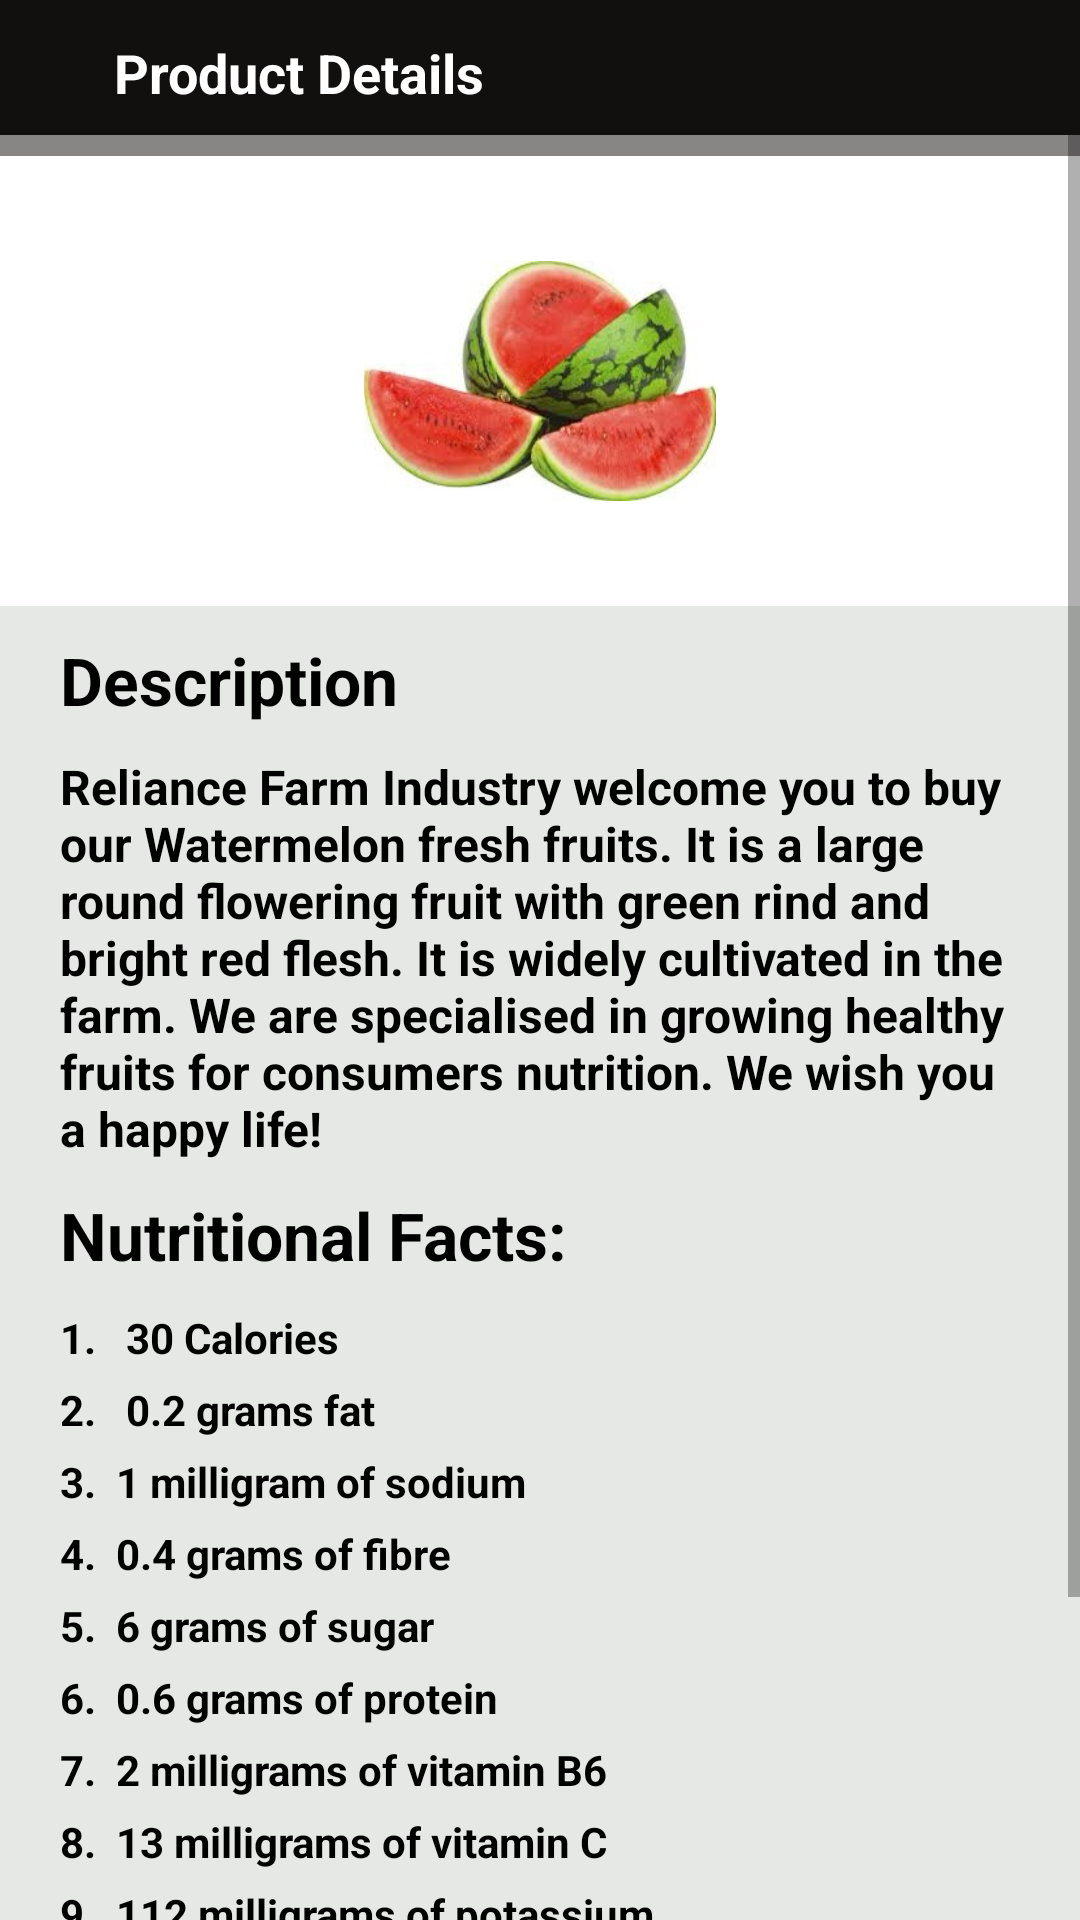

Where icons sit on this 1080px x 1920px app screen, as box(x1, y1, x2, y2):
watermelon: box(364, 261, 716, 501)
